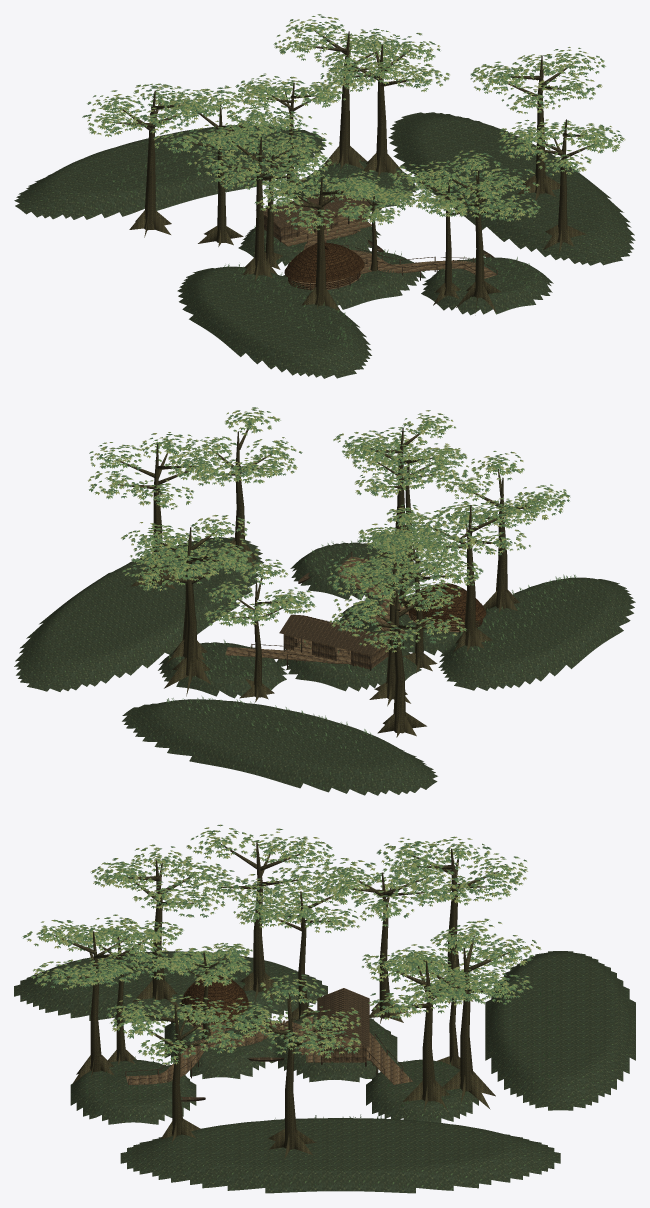
File: amazonia.glb
3 views of the same model, one above another, from view 1: azimuth 30°, elevation 25°; view 2: azimuth 150°, elevation 25°; view 3: azimuth 270°, elevation 25° (orthographic). The views are drawn at different scales.
Visible parts, largest first — view 1: Earth, LeafLight, LeafDeep, LeafMid, Bark, Timber, Thatch, DarkTimber, Grass; view 2: Earth, LeafDeep, LeafMid, LeafLight, Bark, Timber, DarkTimber, Thatch, Grass; view 3: Earth, LeafMid, LeafDeep, LeafLight, Bark, Timber, DarkTimber, Thatch, Grass.
Part boxes in pixels (x1,y1,x2,y2): Earth: [14, 112, 635, 378]; LeafLight: [85, 16, 624, 233]; LeafDeep: [82, 14, 623, 233]; LeafMid: [87, 14, 625, 230]; Bark: [113, 30, 594, 315]; Timber: [263, 181, 496, 290]; Thatch: [284, 242, 364, 289]; DarkTimber: [265, 188, 497, 290]; Grass: [96, 135, 539, 347]; Earth: [14, 537, 635, 795]; LeafDeep: [89, 407, 570, 650]; LeafMid: [89, 407, 568, 652]; LeafLight: [88, 409, 568, 652]; Bark: [116, 424, 539, 737]; Timber: [225, 556, 464, 669]; DarkTimber: [232, 551, 482, 670]; Thatch: [405, 583, 486, 630]; Grass: [166, 539, 579, 751]; Earth: [14, 951, 635, 1193]; LeafMid: [22, 828, 541, 1064]; LeafDeep: [23, 825, 538, 1064]; LeafLight: [26, 824, 540, 1064]; Bark: [54, 841, 509, 1158]; Timber: [126, 988, 412, 1099]; DarkTimber: [125, 988, 409, 1101]; Thatch: [181, 975, 248, 1029]; Grass: [50, 971, 560, 1119].
Bounding box in the file's own units: 91.76 × 28.87 × 99.
Materials: 10 (6 with a texture image).
